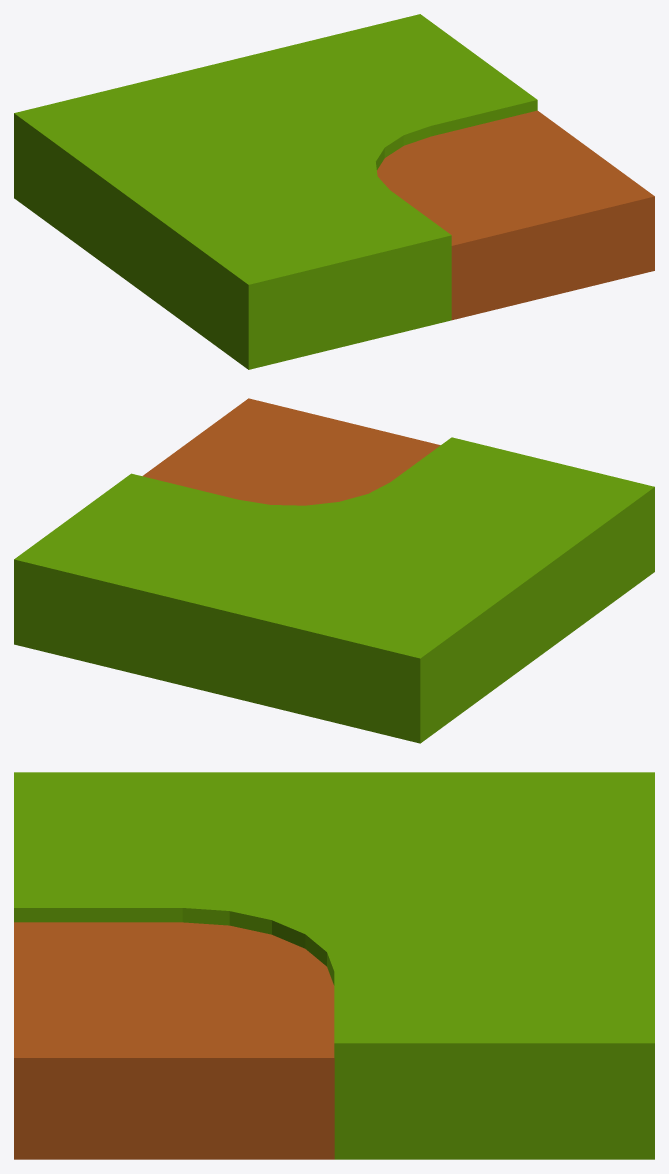
The model's file is TileGround_28.fbx.
The picture shows the model from 3 angles, top to bottom: view 1: azimuth 30°, elevation 25°; view 2: azimuth 150°, elevation 25°; view 3: azimuth 270°, elevation 25°; orthographic projection. The views are drawn at different scales.
Visible parts, largest first — view 1: TileGround_28; view 2: TileGround_28; view 3: TileGround_28.
Boxes of the visible parts, bbox=[...] form: TileGround_28: bbox=[14, 14, 654, 369]; TileGround_28: bbox=[14, 398, 654, 743]; TileGround_28: bbox=[14, 772, 654, 1159].
Bounding box in the file's own units: 500 × 100 × 500.
